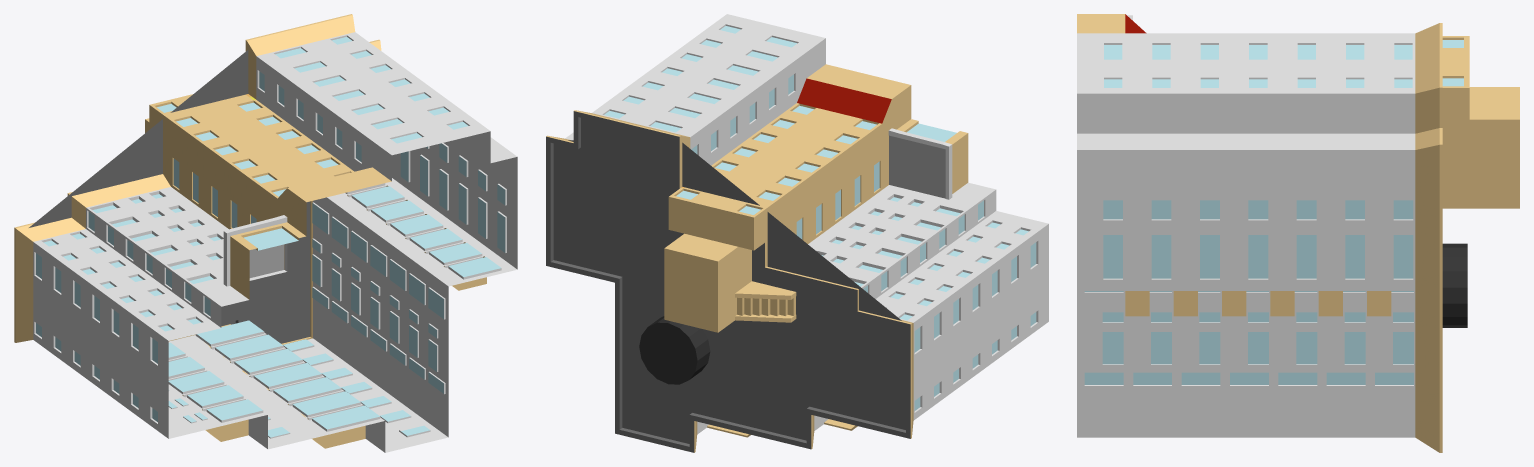
Rendered from Kupari Boutique Appartments.fbx.
The picture shows the model from 3 angles, left to right: view 1: azimuth 30°, elevation 25°; view 2: azimuth 150°, elevation 25°; view 3: azimuth 270°, elevation 25°; orthographic projection. The views are drawn at different scales.
Parts seen in each view (by area): view 1: Cube; view 2: Cube; view 3: Cube.
Part boxes in pixels (bbox=[...]): Cube: bbox=[14, 14, 517, 452]; Cube: bbox=[546, 14, 1048, 452]; Cube: bbox=[1077, 14, 1519, 452].
Bounding box in the file's own units: 12.48 × 10.22 × 10.51.
